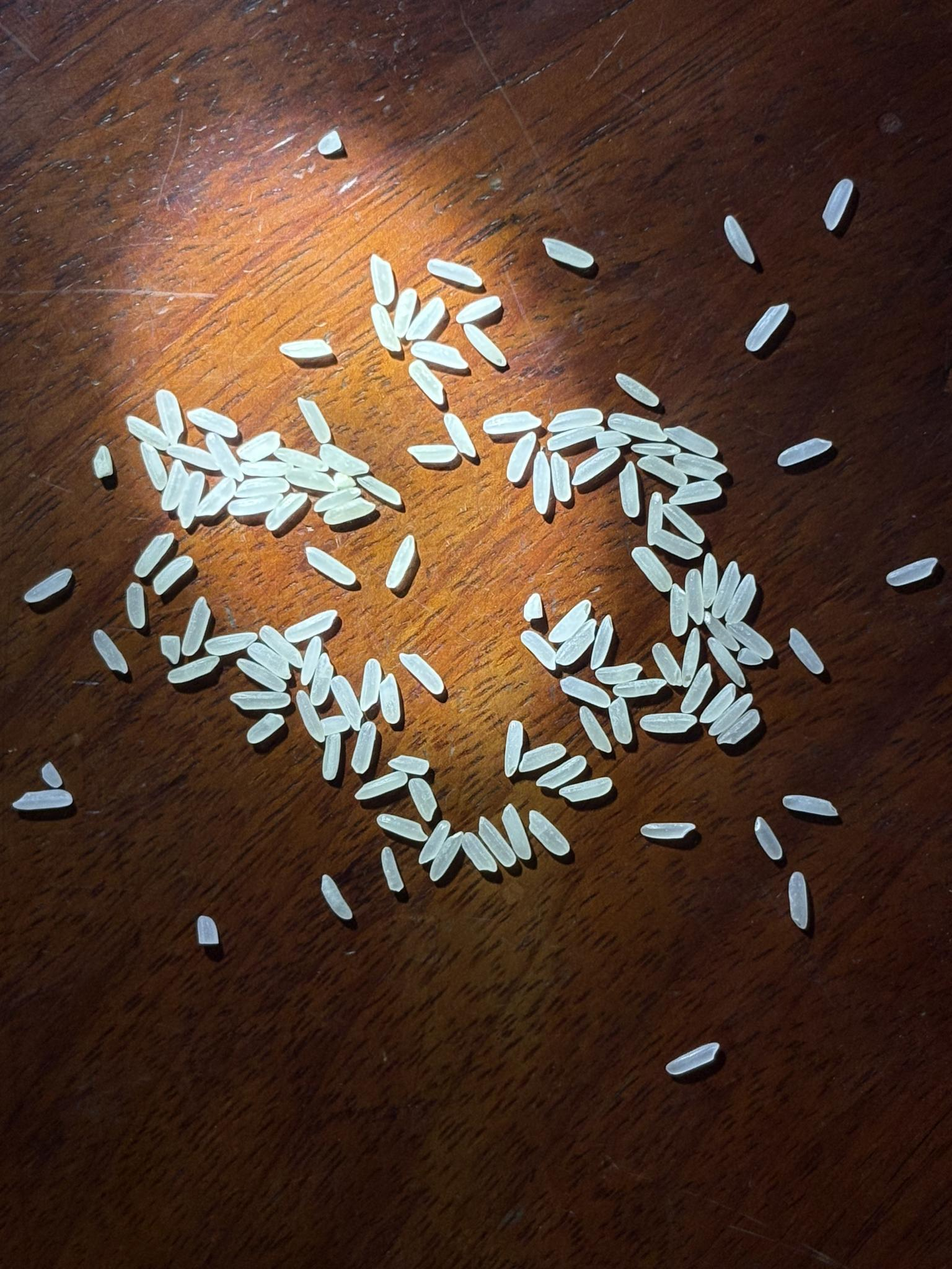Rice-th-y-nh: (705, 692, 756, 739), (744, 302, 790, 353), (258, 624, 306, 670), (304, 546, 358, 586), (527, 810, 571, 858), (630, 545, 673, 594), (477, 815, 516, 869), (547, 598, 592, 644), (132, 531, 175, 579), (399, 652, 447, 695), (410, 337, 469, 371), (571, 446, 622, 485), (707, 637, 746, 687), (204, 432, 242, 483), (709, 562, 743, 619), (662, 502, 706, 546), (726, 620, 774, 660), (174, 472, 207, 530), (464, 323, 507, 367), (263, 490, 309, 531), (557, 619, 596, 667), (787, 626, 825, 675), (181, 597, 212, 657), (284, 609, 338, 643), (607, 411, 666, 442), (318, 442, 370, 477), (24, 568, 73, 605), (405, 297, 446, 341), (822, 178, 856, 231), (776, 436, 832, 468), (236, 658, 287, 693), (637, 454, 689, 488), (667, 424, 719, 458), (724, 574, 758, 626), (407, 360, 445, 406), (247, 641, 293, 679), (441, 412, 478, 459), (501, 804, 532, 860), (296, 396, 332, 444), (152, 554, 194, 595), (91, 629, 129, 674), (428, 257, 483, 288), (680, 664, 714, 714), (331, 676, 363, 729), (560, 675, 611, 708), (197, 476, 237, 518), (155, 390, 185, 446), (385, 536, 416, 590), (167, 441, 221, 472), (885, 556, 939, 587), (166, 654, 220, 685), (536, 757, 588, 789), (715, 709, 761, 745), (483, 409, 540, 438), (673, 451, 726, 482), (428, 833, 462, 881), (543, 237, 594, 269), (187, 406, 238, 438), (547, 406, 603, 435), (125, 415, 170, 451), (506, 431, 537, 483), (698, 684, 737, 725), (782, 791, 839, 819), (231, 687, 292, 713), (369, 304, 402, 352), (615, 372, 660, 407), (653, 529, 702, 561), (228, 491, 284, 519), (666, 1045, 720, 1074), (545, 424, 603, 451), (160, 460, 190, 512), (455, 293, 502, 326), (296, 690, 325, 743), (723, 216, 755, 264), (579, 707, 611, 754), (275, 444, 325, 474), (518, 742, 566, 773), (320, 875, 353, 920), (418, 820, 451, 865), (650, 642, 683, 687), (205, 630, 258, 658), (322, 499, 376, 526), (669, 479, 723, 506), (355, 772, 407, 800), (368, 254, 396, 306), (377, 813, 427, 842), (521, 629, 557, 669), (285, 466, 336, 494), (752, 815, 783, 861), (237, 430, 281, 462), (559, 776, 613, 802), (529, 453, 552, 514), (461, 832, 496, 872), (787, 871, 811, 929), (359, 474, 402, 506), (391, 288, 418, 338), (139, 442, 167, 490), (312, 486, 360, 514), (351, 722, 377, 773), (377, 673, 403, 724), (407, 778, 437, 822), (679, 629, 703, 684), (618, 463, 642, 518), (13, 788, 73, 810), (590, 617, 615, 669), (310, 653, 335, 705), (665, 584, 690, 636), (703, 616, 739, 652), (683, 568, 706, 624), (245, 712, 285, 744), (359, 658, 382, 711), (236, 476, 289, 499), (549, 452, 573, 502), (640, 713, 697, 734), (280, 337, 332, 360), (299, 636, 323, 685), (608, 697, 633, 744), (408, 442, 459, 465), (503, 721, 524, 776), (241, 457, 289, 481), (645, 492, 667, 544), (699, 553, 721, 605), (641, 820, 695, 841), (379, 847, 404, 892), (615, 677, 666, 699), (596, 663, 642, 685), (632, 438, 678, 460), (125, 582, 147, 628), (322, 733, 341, 779), (389, 755, 430, 775), (92, 445, 115, 479), (595, 429, 631, 450), (196, 916, 219, 945), (159, 635, 181, 665), (40, 762, 64, 789), (318, 130, 343, 155), (522, 593, 544, 621), (321, 715, 349, 734), (737, 648, 764, 667), (332, 471, 357, 490)
